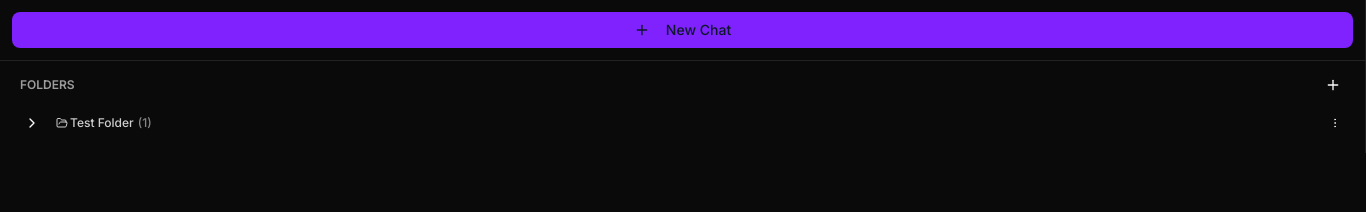
SidebarSessions Component › Folder Toggle & Expansion › should collapse folder when toggled again
The width and height of the screenshot is (1366, 212).
Step 1. Click the text "Test Folder" → point(102, 123), box [70,115,134,131]
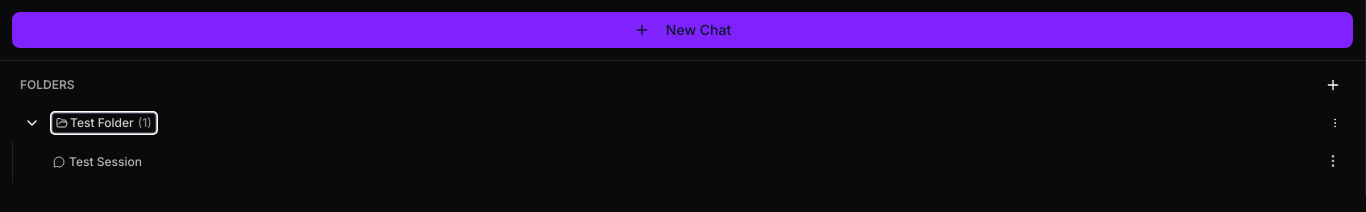
Result: the text "Test Session" is shown at [69,154,142,169]
Step 2. Click the text "Test Folder" → point(102, 123), box [70,115,134,131]
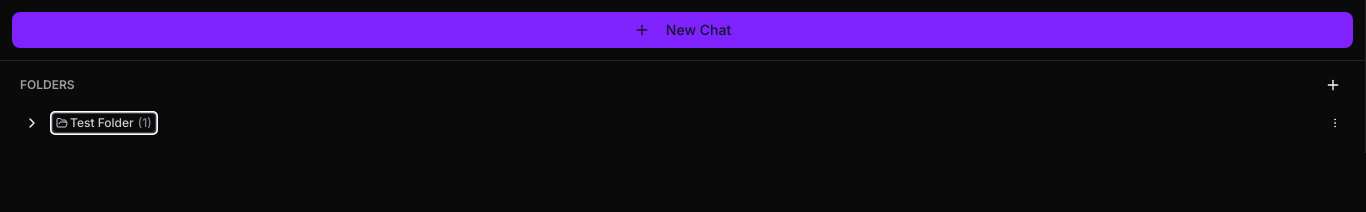
Result: the button "Test Session" is gone
